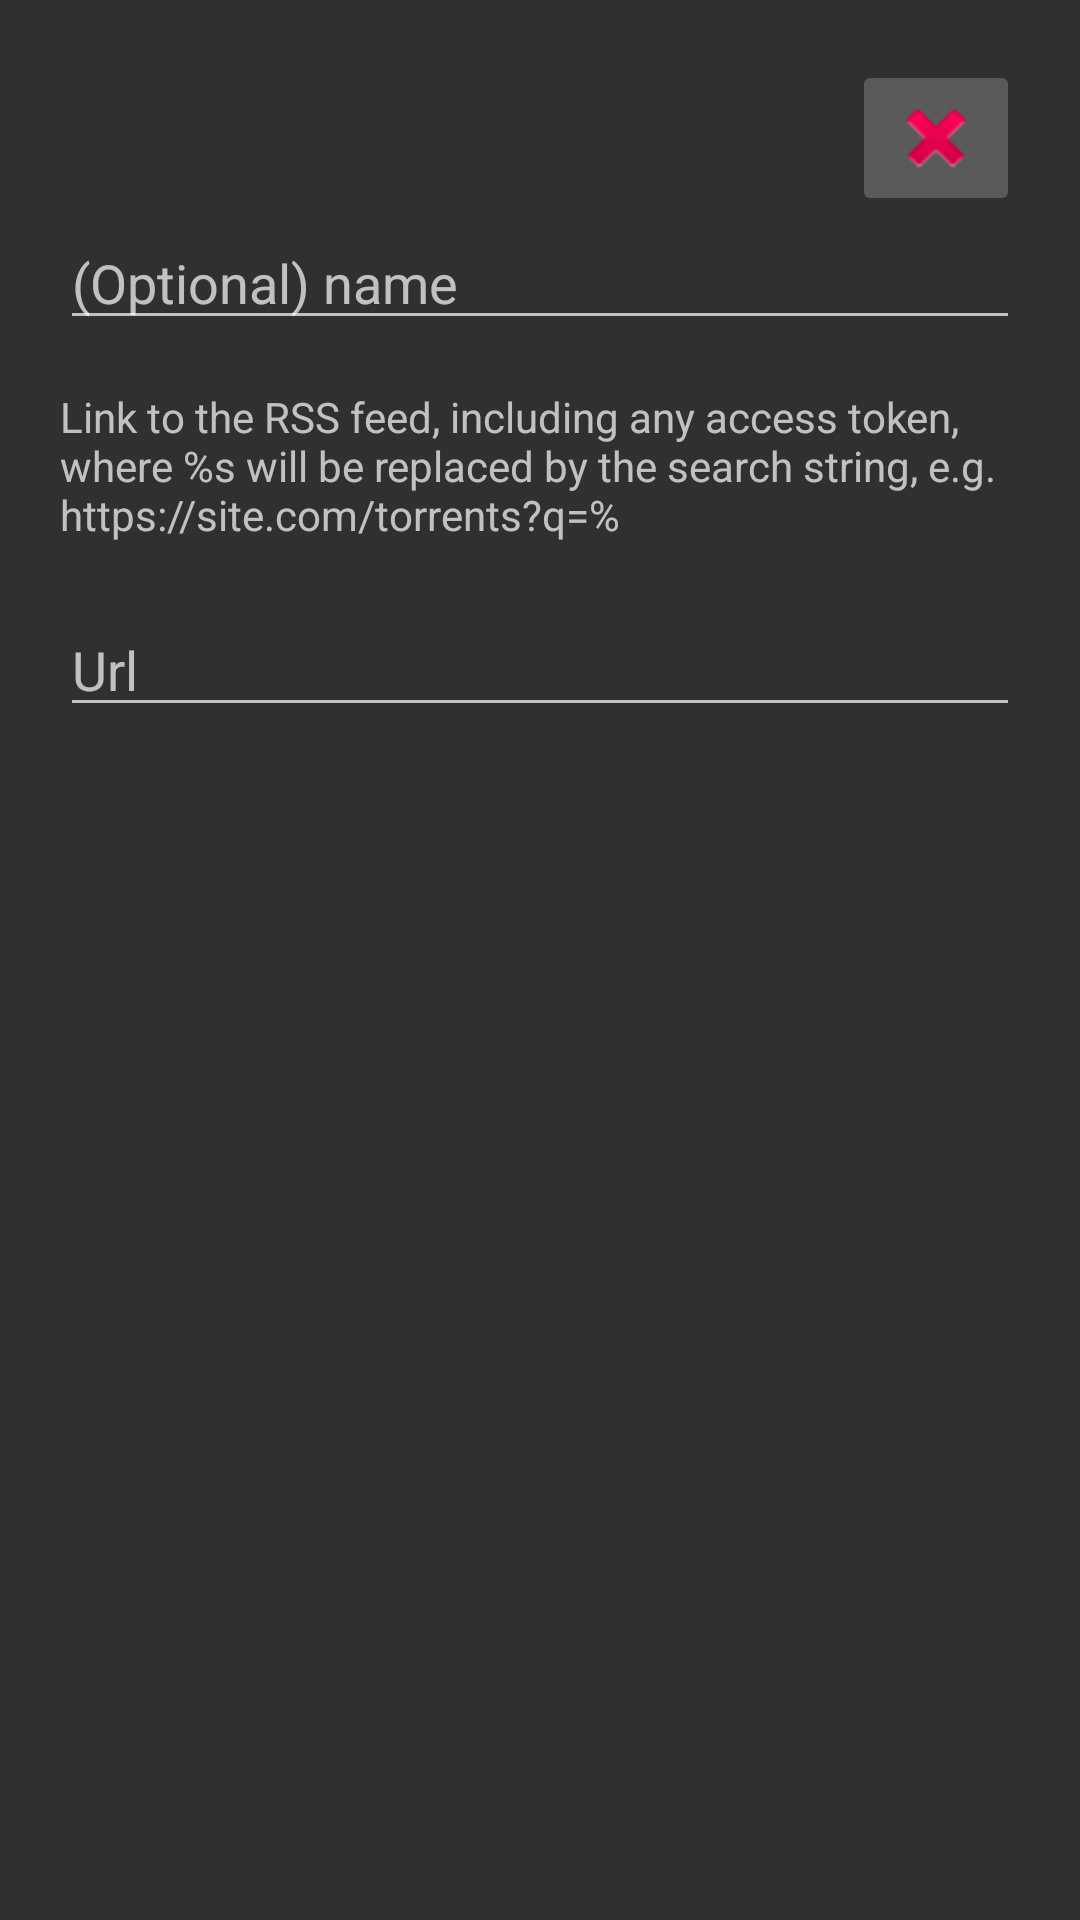

Point at icon controls on the screen. Image size 1080×1920, points as [x,y].
delete: [936,138]
